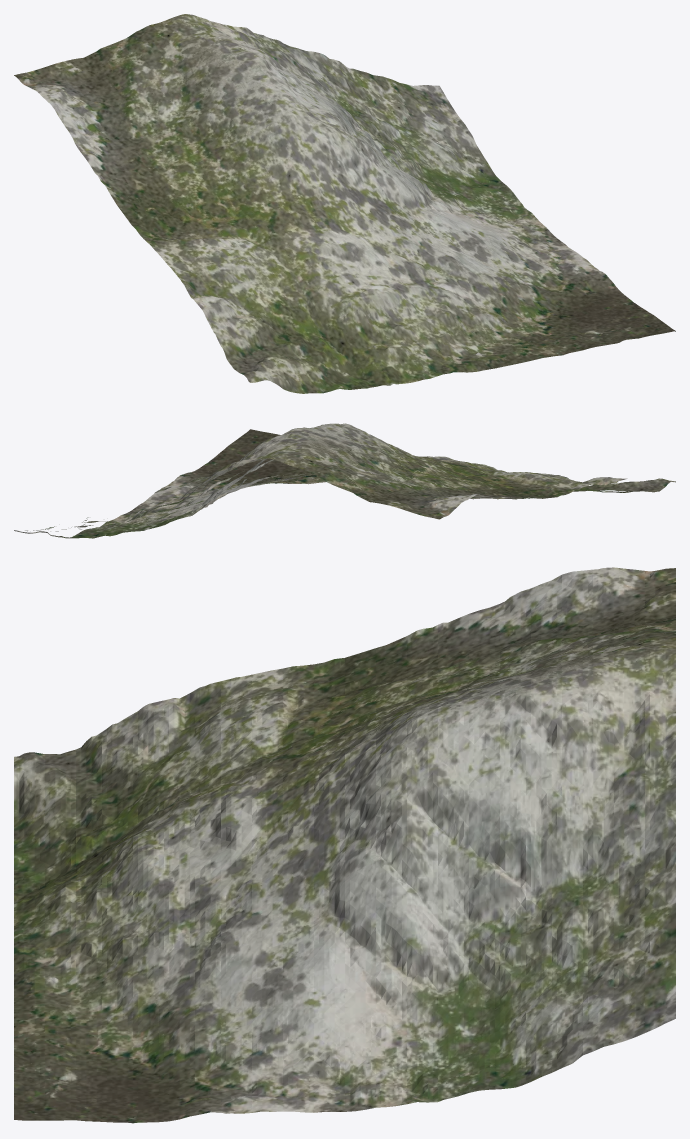
3 renders of one model, top to bottom at view 1: azimuth 30°, elevation 25°; view 2: azimuth 150°, elevation 25°; view 3: azimuth 270°, elevation 25°, orthographic. The views are drawn at different scales.
Bounding box in the file's own units: 500 × 235 × 481.
1 material, 1 textured.
